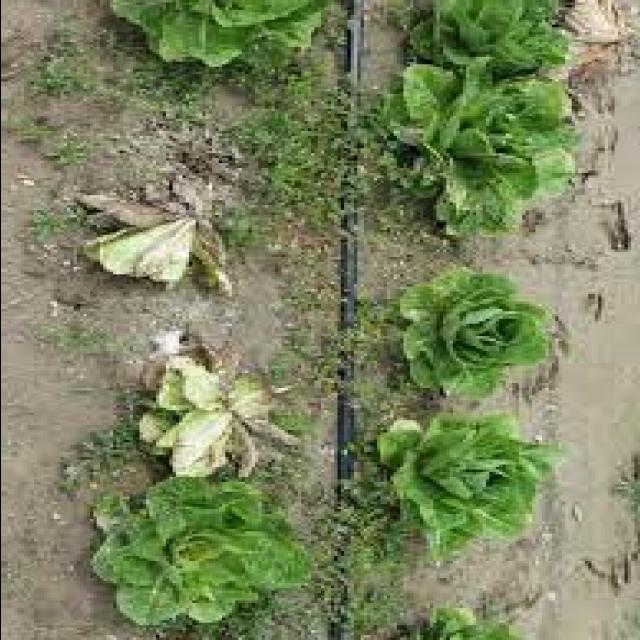Lettuce: (378, 59, 575, 241), (93, 474, 310, 622), (138, 331, 305, 481), (378, 412, 548, 552), (401, 264, 548, 406), (73, 170, 230, 298), (103, 0, 330, 73), (404, 0, 574, 78), (392, 598, 542, 640)
